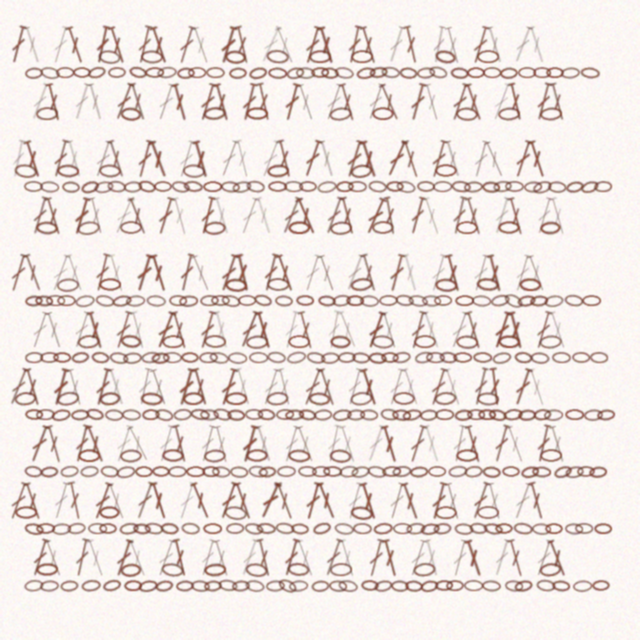chain: (56, 390, 80, 407), (503, 292, 524, 310), (277, 577, 298, 595), (98, 49, 121, 65), (434, 49, 457, 65), (329, 106, 352, 122), (14, 163, 37, 179), (350, 163, 373, 179), (77, 220, 100, 236), (224, 505, 247, 521), (350, 505, 373, 521), (161, 562, 184, 578), (245, 562, 268, 578), (266, 49, 289, 64), (203, 106, 226, 121), (350, 277, 373, 292), (476, 277, 499, 292), (77, 334, 100, 349), (14, 391, 37, 406), (266, 391, 289, 406), (350, 391, 373, 406), (434, 391, 457, 406), (287, 562, 310, 577), (413, 562, 436, 577), (539, 562, 562, 577), (532, 179, 553, 195), (120, 334, 142, 349), (99, 391, 121, 406), (371, 335, 394, 349), (539, 335, 562, 349), (140, 392, 163, 406), (308, 392, 331, 406), (329, 449, 352, 463), (80, 179, 100, 195), (580, 179, 600, 195), (553, 464, 573, 480), (490, 293, 511, 308), (286, 350, 307, 365), (212, 407, 233, 422), (141, 50, 163, 64), (120, 107, 142, 121), (456, 107, 478, 121), (498, 107, 520, 121), (540, 107, 562, 121), (57, 164, 79, 178), (99, 164, 121, 178), (183, 164, 205, 178), (267, 164, 289, 178), (36, 221, 58, 235), (204, 221, 226, 235), (330, 221, 352, 235), (57, 278, 79, 292), (225, 278, 247, 292), (435, 278, 457, 292), (246, 335, 268, 349), (456, 335, 478, 349), (477, 392, 499, 406), (120, 449, 142, 463), (204, 449, 226, 463), (288, 449, 310, 463), (120, 563, 142, 577), (204, 563, 226, 577), (87, 65, 107, 80), (128, 65, 148, 80), (428, 65, 448, 80), (137, 179, 157, 194), (253, 293, 273, 308), (414, 350, 434, 365), (85, 407, 105, 422), (312, 521, 332, 536), (102, 578, 122, 593), (225, 50, 246, 64), (540, 221, 561, 235), (330, 335, 351, 349), (309, 50, 331, 63), (351, 50, 373, 63), (477, 50, 499, 63), (36, 107, 58, 120), (246, 107, 268, 120), (372, 107, 394, 120), (435, 164, 457, 177), (120, 221, 142, 234), (288, 221, 310, 234), (372, 221, 394, 234), (456, 221, 478, 234), (498, 221, 520, 234), (99, 278, 121, 291), (267, 278, 289, 291), (519, 278, 541, 291), (162, 335, 184, 348), (204, 335, 226, 348), (288, 335, 310, 348), (414, 335, 436, 348), (498, 335, 520, 348), (225, 392, 247, 405), (393, 392, 415, 405), (78, 449, 100, 462), (162, 449, 184, 462), (246, 449, 268, 462), (456, 449, 478, 462), (540, 449, 562, 462), (15, 506, 37, 519), (435, 506, 457, 519), (477, 506, 499, 519), (36, 563, 58, 576), (330, 563, 352, 576), (40, 66, 60, 80), (248, 66, 268, 80), (334, 66, 354, 80), (356, 66, 376, 80), (94, 180, 114, 194), (232, 180, 252, 194), (317, 180, 337, 194), (396, 180, 416, 194), (565, 180, 585, 194), (75, 294, 95, 308), (95, 294, 115, 308), (112, 294, 132, 308), (221, 294, 241, 308), (408, 294, 428, 308), (544, 294, 564, 308), (109, 351, 129, 365), (209, 351, 229, 365), (306, 351, 326, 365), (492, 351, 512, 365), (51, 408, 71, 422), (154, 408, 174, 422), (332, 408, 352, 422), (402, 408, 422, 422), (116, 465, 136, 479), (367, 465, 387, 479), (520, 465, 540, 479), (24, 522, 44, 536), (244, 522, 264, 536), (334, 522, 354, 536), (420, 522, 440, 536), (483, 522, 503, 536), (138, 579, 158, 593), (245, 579, 265, 593), (338, 579, 358, 593), (183, 392, 204, 405), (99, 506, 120, 519), (286, 66, 305, 80), (171, 180, 190, 194), (517, 294, 536, 308), (298, 408, 317, 422), (488, 408, 507, 422), (351, 465, 370, 479), (565, 465, 584, 479), (155, 579, 174, 593), (374, 579, 393, 593), (420, 579, 439, 593), (514, 579, 533, 593), (157, 66, 177, 79), (183, 180, 203, 193), (451, 180, 471, 193), (564, 294, 584, 307), (141, 351, 161, 364), (190, 408, 210, 421), (503, 408, 523, 421), (248, 465, 268, 478), (339, 465, 359, 478), (392, 465, 412, 478), (448, 465, 468, 478), (119, 522, 139, 535), (144, 522, 164, 535), (256, 522, 276, 535), (275, 522, 295, 535), (373, 522, 393, 535), (406, 522, 426, 535), (513, 522, 533, 535), (24, 579, 44, 592), (81, 579, 101, 592), (218, 579, 238, 592), (536, 579, 556, 592), (369, 66, 388, 79), (381, 66, 400, 79), (107, 180, 126, 193), (246, 180, 265, 193), (368, 180, 387, 193), (493, 180, 512, 193), (332, 294, 351, 307), (395, 294, 414, 307), (71, 351, 90, 364), (91, 351, 110, 364), (267, 351, 286, 364), (392, 351, 411, 364), (439, 351, 458, 364), (514, 351, 533, 364), (173, 408, 192, 421), (257, 408, 276, 421), (380, 408, 399, 421), (533, 408, 552, 421), (24, 465, 43, 478), (60, 465, 79, 478), (80, 465, 99, 478), (100, 465, 119, 478), (464, 465, 483, 478), (67, 522, 86, 535), (160, 522, 179, 535), (181, 522, 200, 535), (433, 522, 452, 535), (469, 522, 488, 535), (580, 67, 600, 79), (146, 295, 166, 307), (530, 352, 550, 364), (454, 523, 474, 535), (268, 67, 287, 79), (296, 67, 315, 79), (399, 67, 418, 79), (450, 67, 469, 79), (561, 67, 580, 79), (40, 181, 59, 193), (221, 181, 240, 193), (464, 181, 483, 193), (126, 295, 145, 307), (179, 295, 198, 307), (360, 295, 379, 307), (422, 295, 441, 307), (472, 295, 491, 307), (123, 352, 142, 364), (151, 352, 170, 364), (228, 352, 247, 364), (368, 352, 387, 364), (122, 409, 141, 421), (200, 409, 219, 421), (285, 409, 304, 421), (392, 409, 411, 421), (454, 409, 473, 421), (544, 409, 563, 421), (584, 409, 603, 421), (40, 466, 59, 478), (258, 466, 277, 478), (482, 466, 501, 478), (532, 466, 551, 478), (52, 523, 71, 535), (532, 523, 551, 535), (40, 580, 59, 592), (60, 580, 79, 592), (191, 580, 210, 592), (266, 580, 285, 592), (289, 580, 308, 592), (311, 580, 330, 592), (482, 580, 501, 592), (573, 580, 592, 592), (25, 67, 43, 79), (177, 67, 195, 79), (229, 67, 247, 79), (321, 67, 339, 79), (417, 67, 435, 79), (500, 67, 518, 79), (62, 181, 80, 193), (124, 181, 142, 193), (482, 181, 500, 193), (524, 181, 542, 193), (548, 181, 566, 193), (25, 295, 43, 307), (35, 295, 53, 307), (275, 295, 293, 307), (318, 295, 336, 307), (530, 295, 548, 307), (321, 352, 339, 364), (352, 352, 370, 364), (71, 409, 89, 421), (105, 409, 123, 421), (227, 409, 245, 421), (314, 409, 332, 421), (347, 409, 365, 421), (360, 409, 378, 421), (420, 409, 438, 421), (518, 409, 536, 421), (597, 409, 615, 421), (212, 466, 230, 478), (230, 466, 248, 478), (410, 466, 428, 478), (589, 466, 607, 478), (133, 523, 151, 535), (291, 523, 309, 535), (565, 523, 583, 535), (176, 580, 194, 592), (204, 580, 222, 592), (232, 580, 250, 592), (329, 580, 347, 592), (391, 580, 409, 592), (405, 580, 423, 592), (505, 580, 523, 592), (552, 580, 570, 592), (145, 67, 164, 78), (206, 67, 225, 78), (24, 181, 43, 192), (203, 181, 222, 192), (268, 181, 287, 192), (284, 181, 303, 192), (348, 181, 367, 192), (433, 181, 452, 192), (505, 181, 524, 192), (46, 295, 65, 306), (57, 295, 76, 306), (200, 295, 219, 306), (211, 295, 230, 306), (379, 295, 398, 306), (455, 295, 474, 306), (582, 295, 601, 306), (40, 352, 59, 363), (163, 352, 182, 363), (199, 352, 218, 363), (249, 352, 268, 363), (426, 352, 445, 363), (453, 352, 472, 363), (473, 352, 492, 363), (552, 352, 571, 363), (36, 409, 55, 420), (435, 409, 454, 420), (565, 409, 584, 420), (168, 466, 187, 477), (186, 466, 205, 477), (277, 466, 296, 477), (298, 466, 317, 477), (323, 466, 342, 477), (382, 466, 401, 477), (36, 523, 55, 534), (88, 523, 107, 534), (203, 523, 222, 534), (353, 523, 372, 534), (393, 523, 412, 534), (464, 580, 483, 591), (56, 67, 74, 78), (73, 67, 91, 78), (108, 67, 126, 78), (188, 67, 206, 78), (311, 67, 329, 78), (467, 67, 485, 78), (483, 67, 501, 78), (518, 67, 536, 78), (533, 67, 551, 78), (546, 67, 564, 78), (154, 181, 172, 192), (299, 181, 317, 192), (336, 181, 354, 192), (386, 181, 404, 192), (417, 181, 435, 192), (594, 181, 612, 192), (169, 295, 187, 306), (238, 295, 256, 306), (296, 295, 314, 306), (346, 295, 364, 306), (434, 295, 452, 306), (25, 352, 43, 363), (53, 352, 71, 363), (181, 352, 199, 363), (338, 352, 356, 363), (381, 352, 399, 363), (572, 352, 590, 363), (590, 352, 608, 363), (25, 409, 43, 420), (142, 409, 160, 420), (245, 409, 263, 420), (276, 409, 294, 420), (467, 409, 485, 420), (478, 409, 496, 420), (135, 466, 153, 477), (152, 466, 170, 477), (202, 466, 220, 477), (312, 466, 330, 477), (428, 466, 446, 477), (502, 466, 520, 477), (577, 466, 595, 477), (99, 523, 117, 534), (226, 523, 244, 534), (495, 523, 513, 534), (545, 523, 563, 534), (575, 523, 593, 534), (594, 523, 612, 534), (124, 580, 142, 591), (361, 580, 379, 591), (435, 580, 453, 591), (446, 580, 464, 591), (592, 580, 610, 591)
double: (124, 424, 152, 463), (376, 82, 403, 122), (481, 139, 508, 179), (362, 196, 389, 236), (257, 481, 284, 520), (272, 25, 298, 65), (111, 196, 137, 236), (293, 196, 319, 236), (188, 253, 214, 293), (258, 25, 284, 64), (384, 139, 410, 178), (489, 82, 514, 122), (146, 139, 171, 179), (258, 139, 283, 179), (125, 196, 150, 236), (237, 196, 262, 236), (48, 253, 73, 293), (524, 253, 549, 293), (153, 310, 178, 350), (447, 310, 472, 350), (300, 367, 325, 407), (27, 424, 52, 464), (83, 424, 108, 464), (293, 424, 318, 464), (503, 424, 528, 464), (6, 481, 31, 521), (90, 481, 115, 521), (104, 481, 129, 521), (272, 481, 297, 521), (398, 481, 423, 521), (510, 481, 535, 521), (41, 538, 66, 578), (125, 538, 150, 578), (293, 538, 318, 578), (545, 538, 570, 578), (279, 196, 304, 235), (237, 310, 262, 349), (335, 310, 360, 349), (6, 367, 31, 406), (188, 481, 213, 520), (314, 481, 339, 520), (63, 25, 87, 65), (105, 25, 129, 65), (147, 25, 171, 65), (189, 25, 213, 65), (154, 82, 178, 122), (294, 82, 318, 122), (322, 82, 346, 122), (448, 82, 472, 122), (462, 82, 486, 122), (91, 139, 115, 179), (357, 139, 381, 179), (399, 139, 423, 179), (511, 139, 535, 179), (525, 139, 549, 179), (420, 196, 444, 236), (217, 253, 241, 293), (273, 253, 297, 293), (315, 253, 339, 293), (28, 310, 52, 350), (42, 310, 66, 350), (364, 310, 388, 350), (490, 310, 514, 350), (546, 310, 570, 350), (147, 367, 171, 407), (259, 367, 283, 407), (315, 367, 339, 407), (357, 367, 381, 407), (441, 367, 465, 407), (511, 367, 535, 407), (525, 367, 549, 407), (112, 424, 136, 464), (336, 424, 360, 464), (21, 481, 45, 521), (175, 481, 199, 521), (231, 481, 255, 521), (84, 538, 108, 578), (112, 538, 136, 578), (154, 538, 178, 578), (406, 538, 430, 578), (462, 538, 486, 578), (532, 538, 556, 578), (511, 25, 535, 64), (28, 82, 52, 121), (112, 82, 136, 121), (217, 139, 241, 178), (322, 196, 346, 235), (21, 253, 45, 292), (343, 253, 367, 292), (364, 424, 388, 463), (133, 481, 157, 520), (49, 25, 72, 65), (175, 25, 198, 65), (217, 25, 240, 65), (301, 25, 324, 65), (315, 25, 338, 65), (357, 25, 380, 65), (469, 25, 492, 65), (196, 82, 219, 122), (336, 82, 359, 122), (21, 139, 44, 179), (175, 139, 198, 179), (343, 139, 366, 179), (42, 196, 65, 236), (70, 196, 93, 236), (154, 196, 177, 236), (462, 196, 485, 236), (7, 253, 30, 293), (105, 253, 128, 293), (133, 253, 156, 293), (147, 253, 170, 293), (301, 253, 324, 293), (427, 253, 450, 293), (511, 253, 534, 293), (84, 310, 107, 350), (112, 310, 135, 350), (168, 310, 191, 350), (196, 310, 219, 350), (252, 310, 275, 350), (378, 310, 401, 350), (462, 310, 485, 350), (532, 310, 555, 350), (21, 367, 44, 407), (175, 367, 198, 407), (217, 367, 240, 407), (385, 367, 408, 407), (427, 367, 450, 407), (280, 424, 303, 464), (378, 424, 401, 464), (406, 424, 429, 464), (462, 424, 485, 464), (546, 424, 569, 464), (357, 481, 380, 521), (210, 538, 233, 578), (336, 538, 359, 578), (21, 25, 44, 64), (385, 25, 408, 64), (364, 82, 387, 121), (105, 139, 128, 178), (301, 139, 324, 178), (63, 253, 86, 292), (70, 310, 93, 349), (420, 310, 443, 349), (105, 367, 128, 406), (399, 367, 422, 406), (217, 481, 240, 520), (469, 481, 492, 520), (238, 538, 261, 577), (322, 538, 345, 577), (442, 25, 464, 65), (169, 82, 191, 122), (211, 82, 233, 122), (281, 82, 303, 122), (407, 82, 429, 122), (421, 82, 443, 122), (134, 139, 156, 179), (190, 139, 212, 179), (428, 139, 450, 179), (470, 139, 492, 179), (169, 196, 191, 236), (505, 196, 527, 236), (547, 196, 569, 236), (386, 253, 408, 293), (442, 253, 464, 293), (470, 253, 492, 293), (484, 253, 506, 293), (127, 310, 149, 350), (295, 310, 317, 350), (407, 310, 429, 350), (505, 310, 527, 350), (50, 367, 72, 407), (64, 367, 86, 407), (92, 367, 114, 407), (43, 424, 65, 464), (239, 424, 261, 464), (302, 481, 324, 521), (344, 481, 366, 521), (386, 481, 408, 521), (428, 481, 450, 521), (442, 481, 464, 521), (365, 538, 387, 578), (379, 538, 401, 578), (449, 538, 471, 578), (505, 538, 527, 578), (484, 25, 506, 64), (526, 25, 548, 64), (71, 82, 93, 121), (127, 82, 149, 121), (316, 139, 338, 178), (442, 139, 464, 178), (29, 196, 51, 235), (211, 196, 233, 235), (253, 196, 275, 235), (491, 196, 513, 235), (533, 196, 555, 235), (358, 253, 380, 292), (232, 367, 254, 406), (155, 424, 177, 463), (253, 424, 275, 463), (421, 424, 443, 463), (50, 481, 72, 520), (148, 481, 170, 520), (29, 538, 51, 577), (491, 538, 513, 577), (43, 82, 64, 122), (239, 82, 260, 122), (281, 310, 302, 350), (211, 424, 232, 464), (484, 481, 505, 521), (8, 25, 29, 64), (134, 25, 155, 64), (232, 25, 253, 64), (85, 82, 106, 121), (505, 82, 526, 121), (533, 82, 554, 121), (547, 82, 568, 121), (50, 139, 71, 178), (64, 139, 85, 178), (232, 139, 253, 178), (274, 139, 295, 178), (197, 196, 218, 235), (337, 196, 358, 235), (407, 196, 428, 235), (92, 253, 113, 292), (400, 253, 421, 292), (211, 310, 232, 349), (190, 367, 211, 406), (274, 367, 295, 406), (344, 367, 365, 406), (197, 424, 218, 463), (491, 424, 512, 463), (526, 481, 547, 520), (197, 538, 218, 577), (281, 538, 302, 577), (401, 25, 421, 64), (254, 82, 274, 121), (86, 196, 106, 235), (177, 253, 197, 292), (233, 253, 253, 292), (261, 253, 281, 292), (135, 367, 155, 406), (471, 367, 491, 406), (72, 424, 92, 463), (170, 424, 190, 463), (324, 424, 344, 463), (65, 481, 85, 520), (72, 538, 92, 577), (170, 538, 190, 577), (254, 538, 274, 577), (422, 538, 442, 577), (93, 25, 112, 64), (345, 25, 364, 64), (9, 139, 28, 178), (450, 196, 469, 235), (450, 424, 469, 463), (534, 424, 553, 463), (430, 25, 448, 64), (381, 196, 399, 235), (325, 310, 343, 349), (487, 367, 503, 406)
